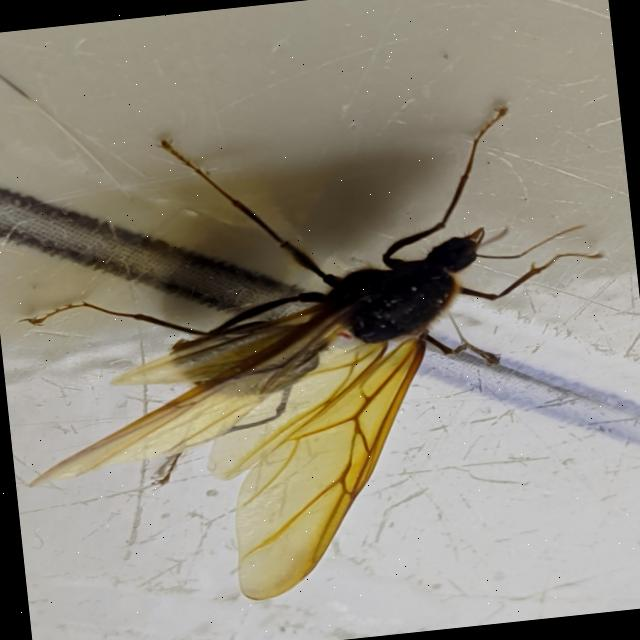Alive-Male-Alate: (0, 94, 636, 623)
